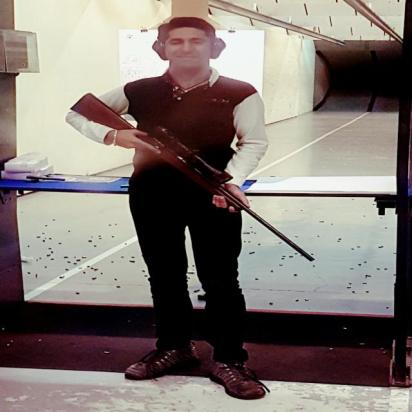Gun: (68, 91, 329, 272)
